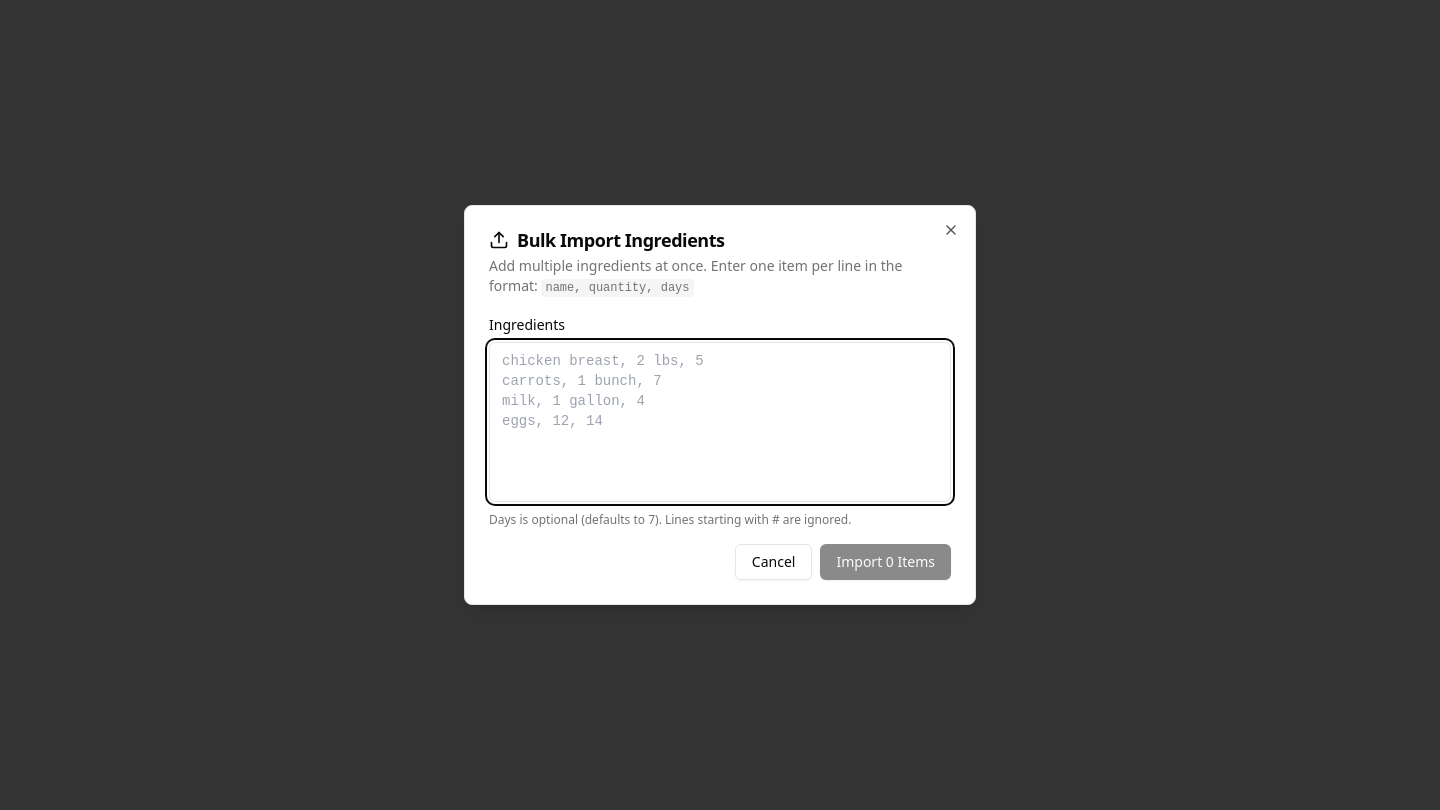
Scenario: BulkFridgeImportDialog › parsing input › should parse valid input with default days
This screenshot has width=1440, height=810.
Type "carrots, 1 bunch" into the text box labelled "Ingredients". click: (720, 422)
box: x1=489 y1=342 x2=951 y2=502
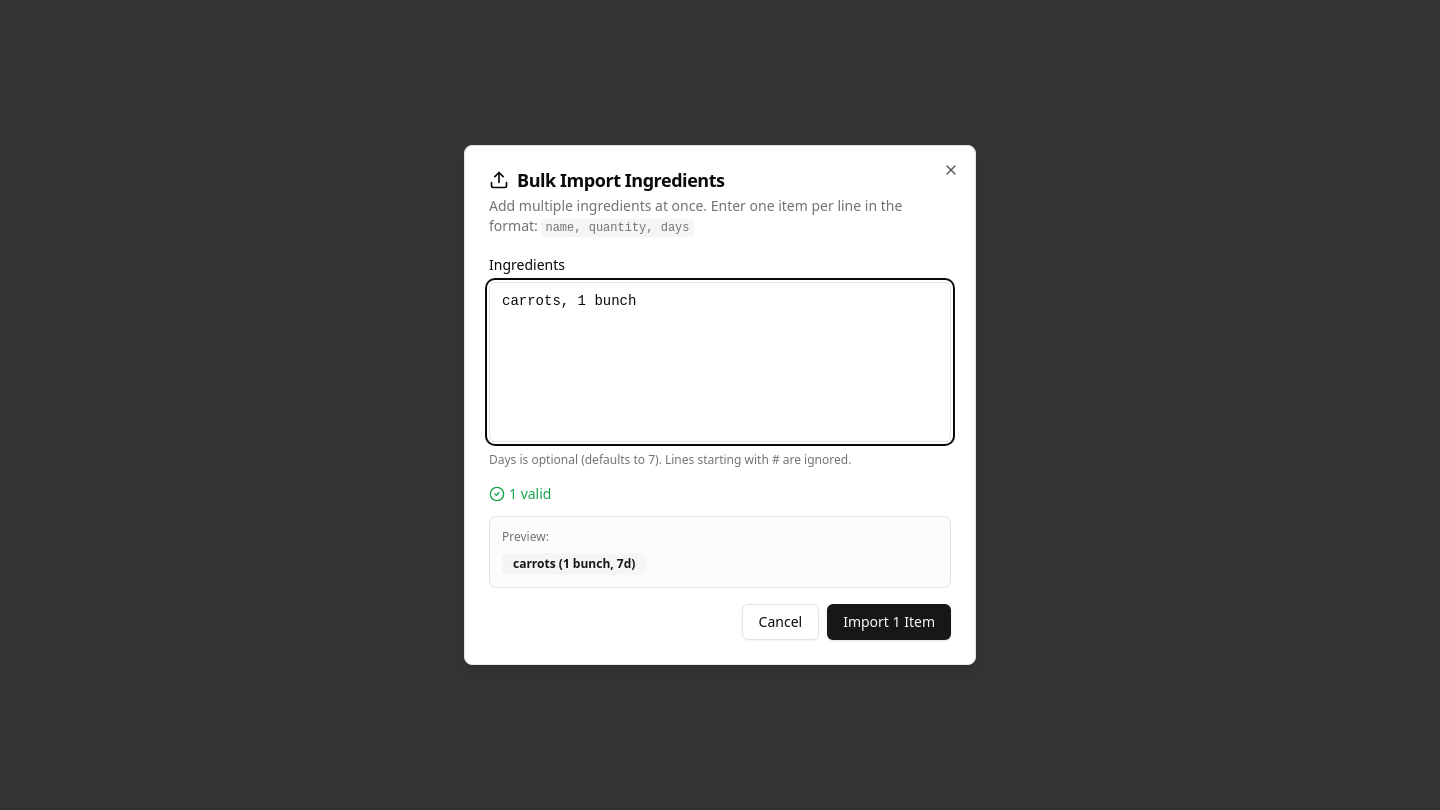
Expected: the text "1 valid" is shown, x1=509 y1=484 x2=552 y2=504
Expected: the text "carrots (1 bunch, 7d)" is shown, x1=502 y1=553 x2=646 y2=575
